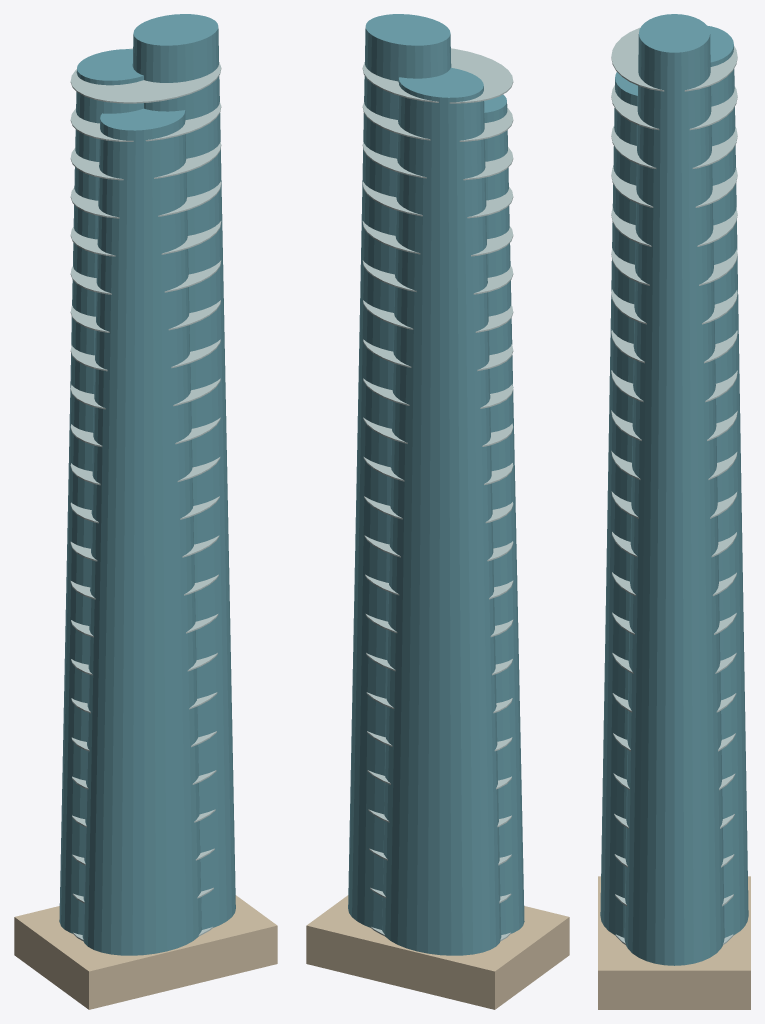
File: white-magnolia.glb
3 renders of one model, left to right at view 1: azimuth 30°, elevation 25°; view 2: azimuth 150°, elevation 25°; view 3: azimuth 270°, elevation 25°, orthographic. The views are drawn at different scales.
Parts seen in each view (by area): view 1: white-magnolia; view 2: white-magnolia; view 3: white-magnolia.
Boxes of the visible parts, bbox=[...] form: white-magnolia: bbox=[14, 14, 277, 1009]; white-magnolia: bbox=[306, 14, 569, 1009]; white-magnolia: bbox=[598, 14, 750, 1009].
Size of the model in its own units: 68.42 by 320 by 46.92.
